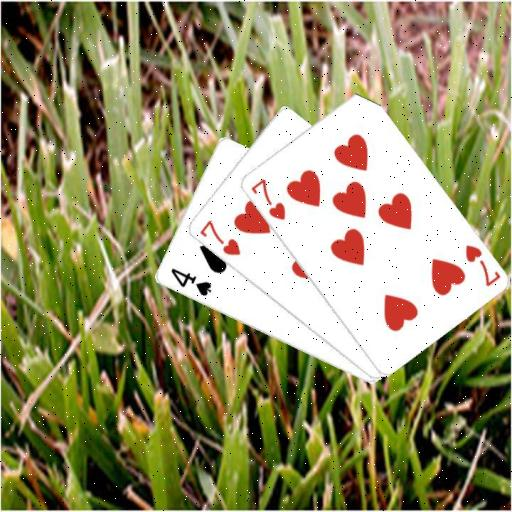4S: (167, 266, 213, 298)
7H: (247, 175, 287, 222), (196, 217, 242, 257), (462, 242, 502, 288)
